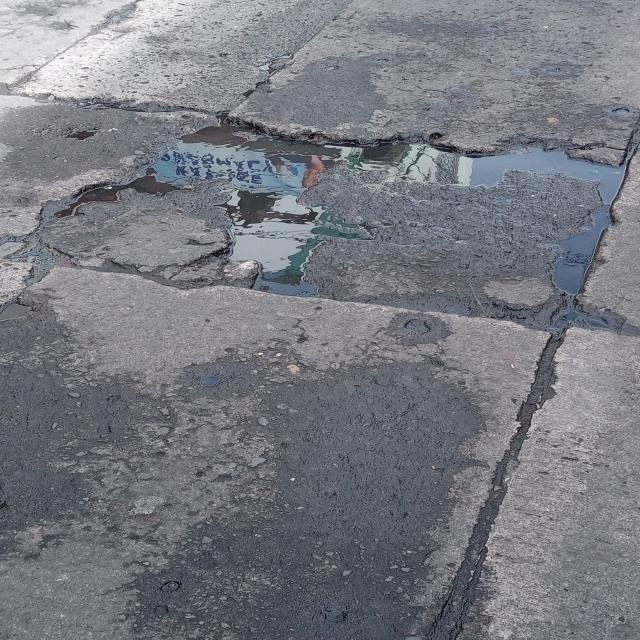pothole: (40, 72, 640, 330)
